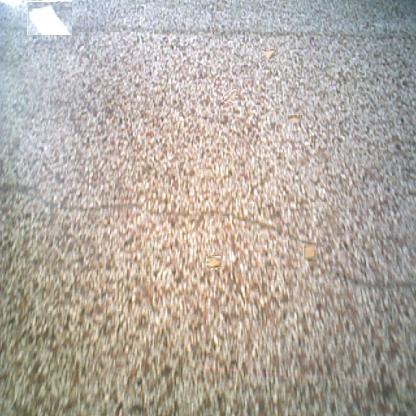dirty: (27, 1, 72, 35), (303, 243, 316, 259), (224, 89, 238, 103), (262, 47, 276, 61), (207, 256, 221, 269), (287, 114, 301, 123)
